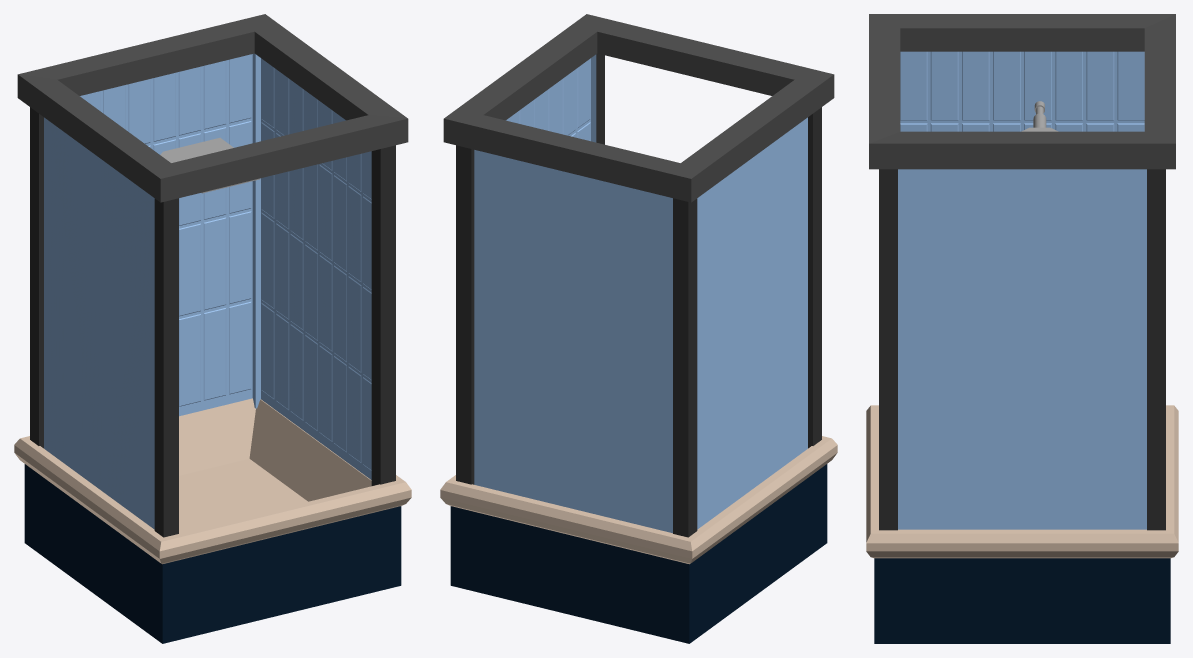
Rendered from Dusche.fbx.
The picture shows the model from 3 angles, left to right: view 1: azimuth 30°, elevation 25°; view 2: azimuth 150°, elevation 25°; view 3: azimuth 270°, elevation 25°; orthographic projection. The views are drawn at different scales.
Parts seen in each view (by area): view 1: Cylinder.001; view 2: Cylinder.001; view 3: Cylinder.001.
Part boxes in pixels (x1,y1,x2,y2): Cylinder.001: (14, 14, 411, 643); Cylinder.001: (440, 14, 837, 643); Cylinder.001: (866, 14, 1178, 643).
Size of the model in its own units: 400 by 709 by 400.
